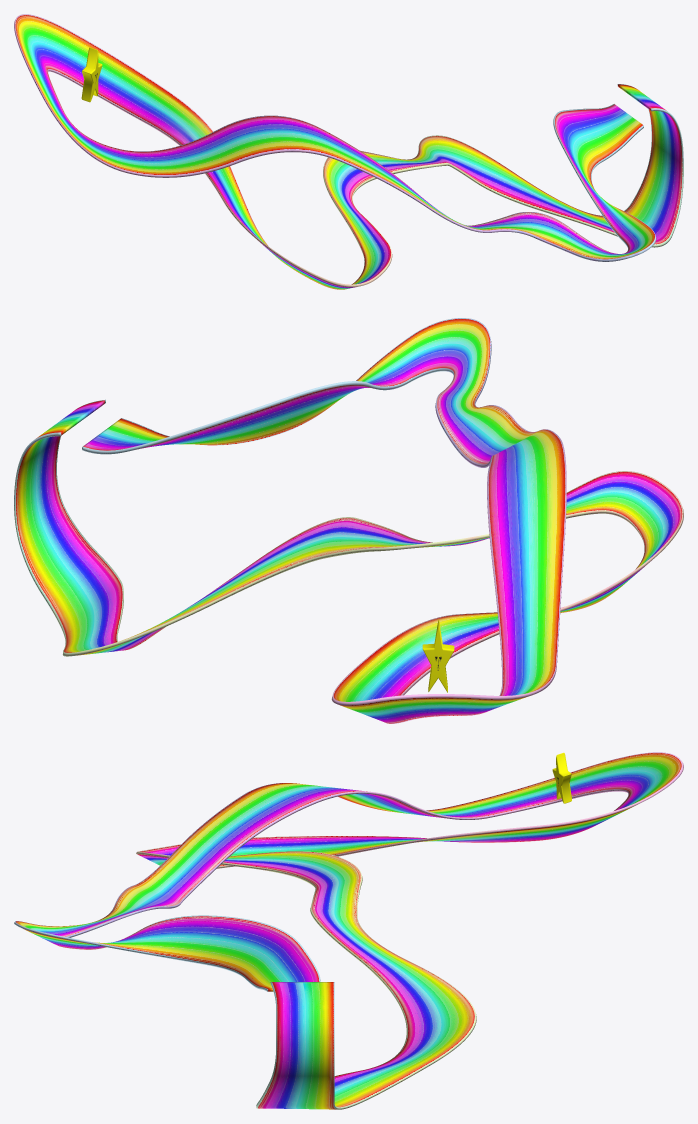
File: Track.obj
The picture shows the model from 3 angles, top to bottom: view 1: azimuth 30°, elevation 25°; view 2: azimuth 150°, elevation 25°; view 3: azimuth 270°, elevation 25°; orthographic projection. The views are drawn at different scales.
Visible parts, largest first — view 1: RainbowRoad, Star; view 2: RainbowRoad, Star; view 3: RainbowRoad, Star.
Boxes of the visible parts, x1,y1,x2,y2 form: RainbowRoad: [14, 14, 683, 289]; Star: [81, 47, 102, 102]; RainbowRoad: [14, 318, 683, 723]; Star: [422, 619, 454, 692]; RainbowRoad: [14, 752, 683, 1109]; Star: [552, 752, 571, 803].
Size of the model in its own units: 63440 by 23023 by 80871.
